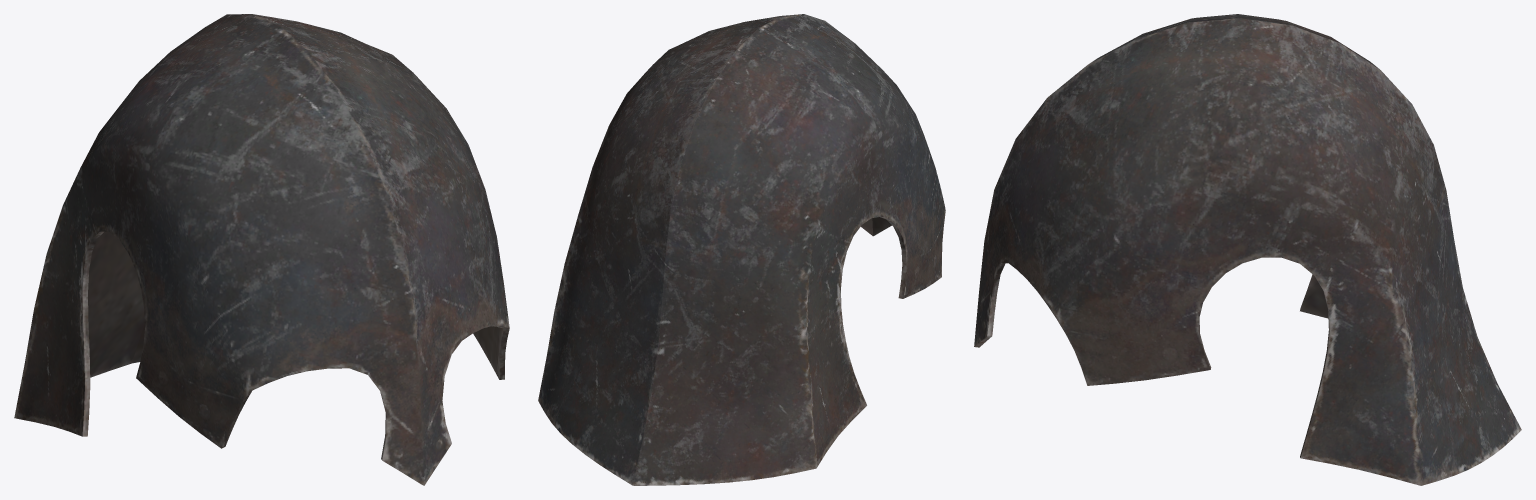
File: sk_dg_uruk_helmet_light_d.fbx
The picture shows the model from 3 angles, left to right: view 1: azimuth 30°, elevation 25°; view 2: azimuth 150°, elevation 25°; view 3: azimuth 270°, elevation 25°; orthographic projection. The views are drawn at different scales.
Parts seen in each view (by area): view 1: sk_dg_uruk_helmet_light_d; view 2: sk_dg_uruk_helmet_light_d; view 3: sk_dg_uruk_helmet_light_d.
Boxes of the visible parts, x1,y1,x2,y2 form: sk_dg_uruk_helmet_light_d: (14, 14, 509, 485); sk_dg_uruk_helmet_light_d: (538, 14, 945, 485); sk_dg_uruk_helmet_light_d: (974, 14, 1521, 485).
Size of the model in its own units: 0.2027 by 0.3064 by 0.2553.
1 material, 1 textured.
